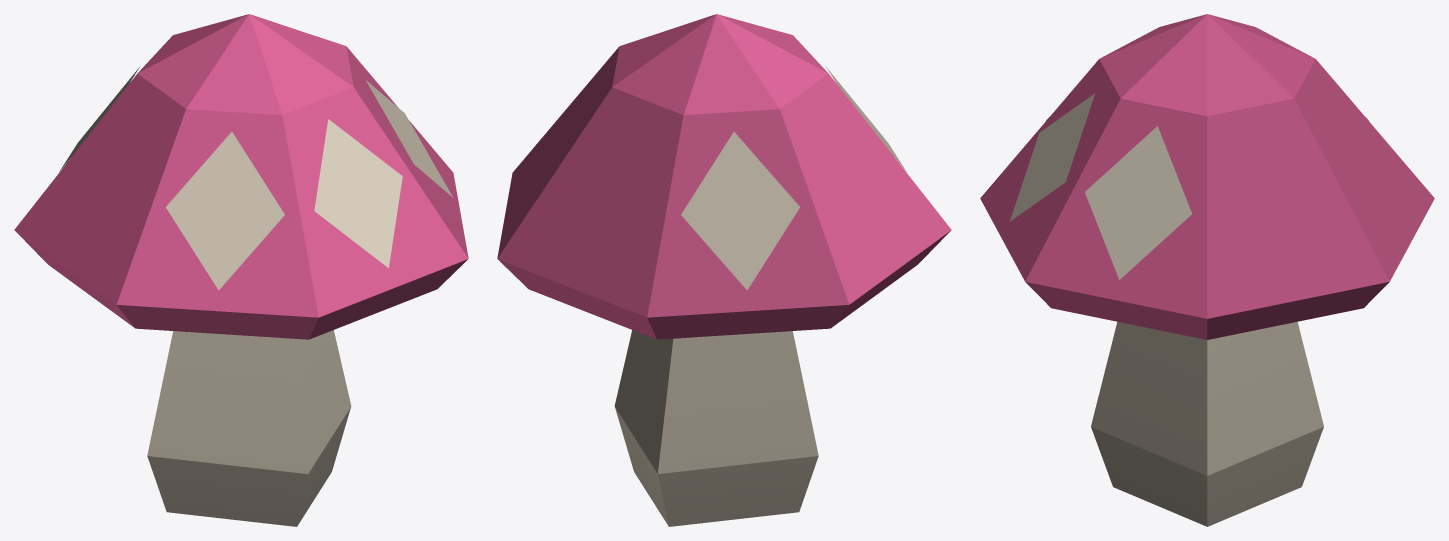
File: mushroom.glb
3 views of the same model, side by side, from view 1: azimuth 30°, elevation 25°; view 2: azimuth 150°, elevation 25°; view 3: azimuth 270°, elevation 25° (orthographic).
Visible parts, largest first — view 1: root_mesh; view 2: root_mesh; view 3: root_mesh.
Boxes of the visible parts, x1,y1,x2,y2 form: root_mesh: (14,14,468,526); root_mesh: (497,14,951,526); root_mesh: (980,14,1434,526).
Size of the model in its own units: 0.2548 by 0.3 by 0.2614.
